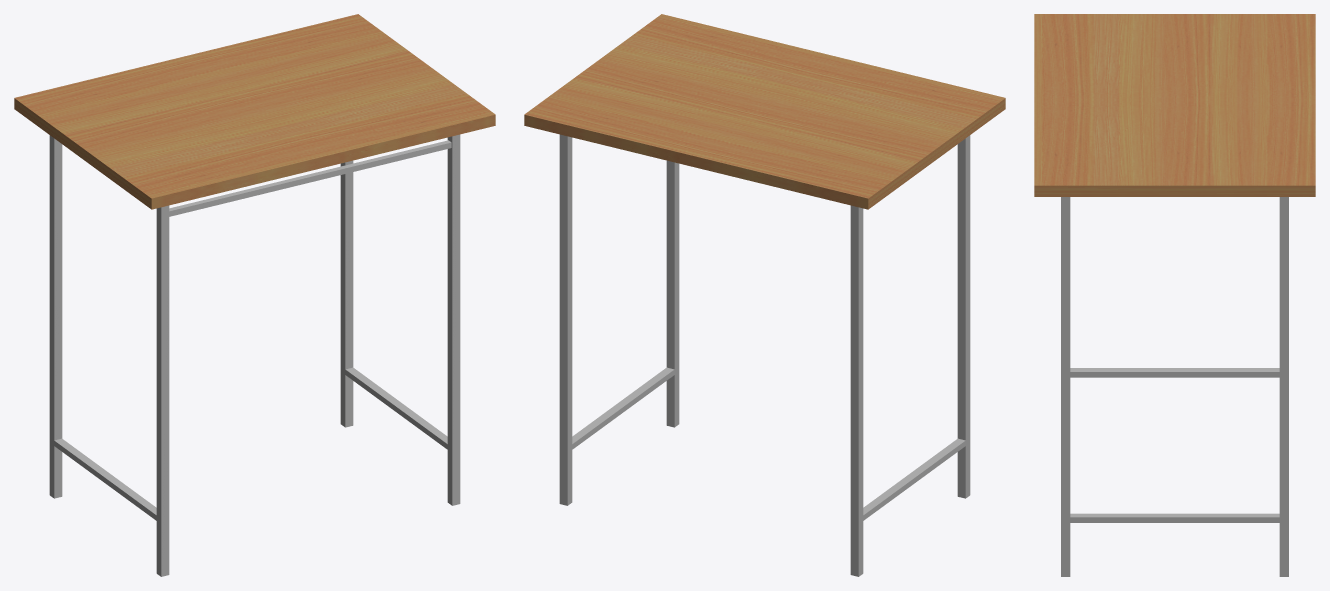
The model's file is SchoolDesk.glb.
3 renders of one model, left to right at view 1: azimuth 30°, elevation 25°; view 2: azimuth 150°, elevation 25°; view 3: azimuth 270°, elevation 25°, orthographic. The views are drawn at different scales.
Visible parts, largest first — view 1: desk_top, desk_leg4, desk_leg2, desk_leg3, desk_leg1, desk_bar_top_1to3, desk_bar_bottom_3to4, desk_bar_bottom_1to2; view 2: desk_top, desk_leg3, desk_leg1, desk_leg4, desk_leg2, desk_bar_bottom_3to4, desk_bar_bottom_1to2; view 3: desk_top, desk_leg1, desk_leg2, desk_bar_bottom_1to2, desk_bar_bottom_3to4.
Boxes of the visible parts, x1,y1,x2,y2 form: desk_top: [14, 14, 495, 209]; desk_leg4: [156, 205, 169, 576]; desk_leg2: [447, 134, 460, 505]; desk_leg3: [49, 135, 62, 498]; desk_leg1: [340, 160, 353, 427]; desk_bar_top_1to3: [169, 140, 451, 216]; desk_bar_bottom_3to4: [52, 438, 158, 522]; desk_bar_bottom_1to2: [345, 367, 449, 449]; desk_top: [524, 14, 1005, 209]; desk_leg3: [850, 205, 863, 576]; desk_leg1: [559, 134, 572, 505]; desk_leg4: [957, 135, 970, 498]; desk_leg2: [666, 160, 679, 427]; desk_bar_bottom_3to4: [863, 438, 967, 520]; desk_bar_bottom_1to2: [572, 367, 676, 449]; desk_top: [1034, 14, 1315, 196]; desk_leg1: [1279, 197, 1288, 576]; desk_leg2: [1061, 197, 1070, 576]; desk_bar_bottom_1to2: [1065, 513, 1284, 522]; desk_bar_bottom_3to4: [1070, 368, 1279, 377].
Bounding box in the file's own units: 13 × 14.2 × 9.
2 materials, 1 textured.
